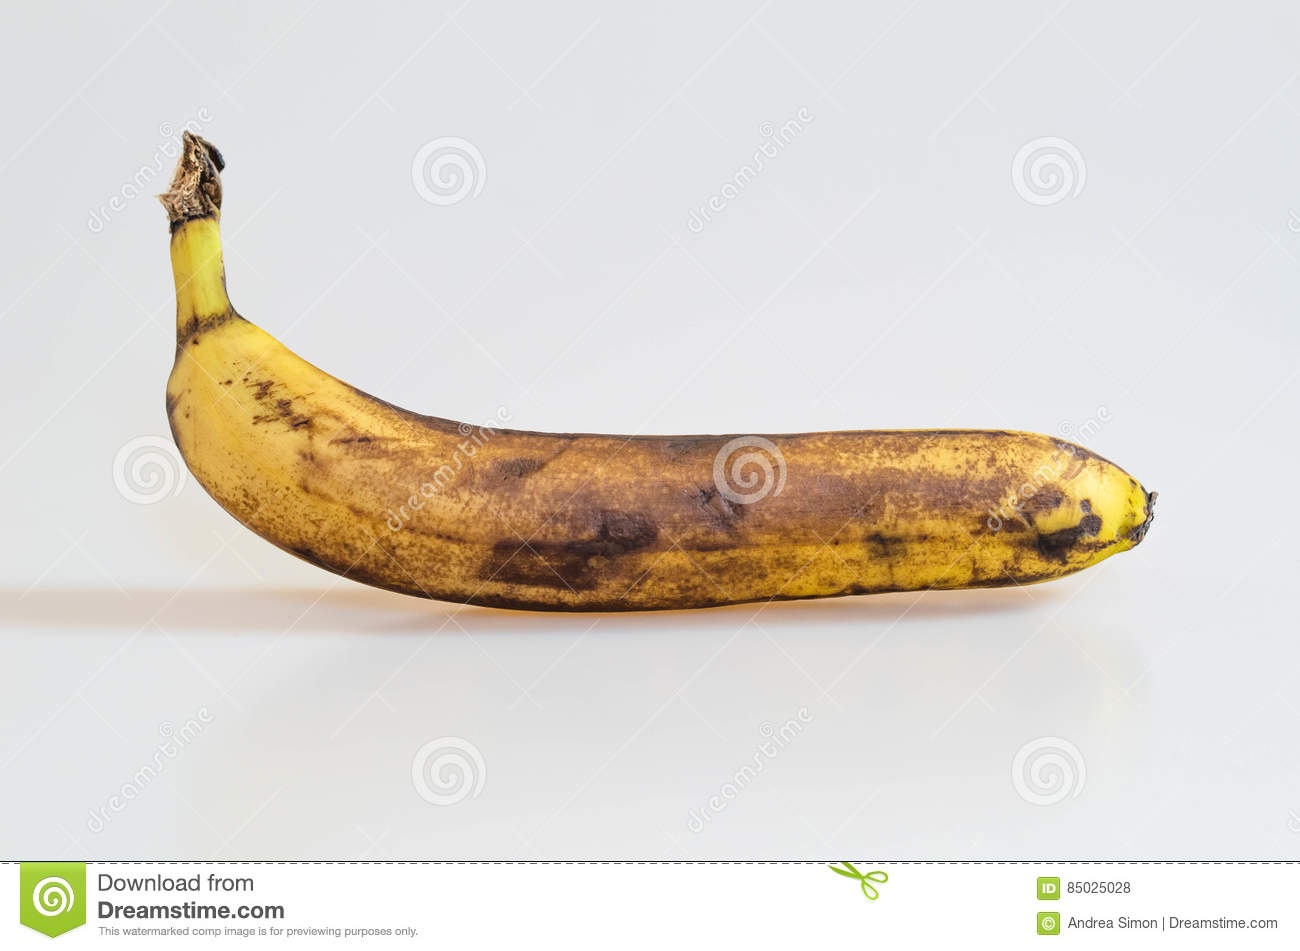damaged_banana: (146, 307, 1152, 638)
